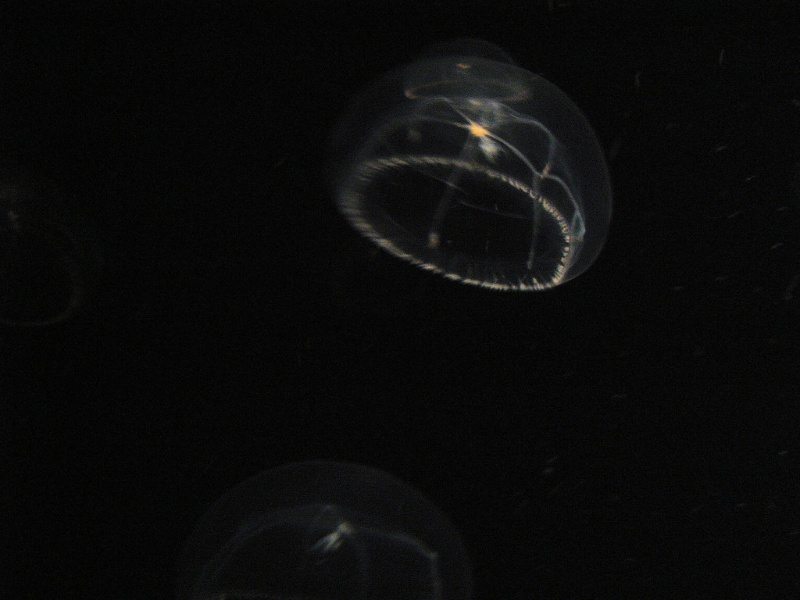Jellyfish: (320, 27, 613, 295)
